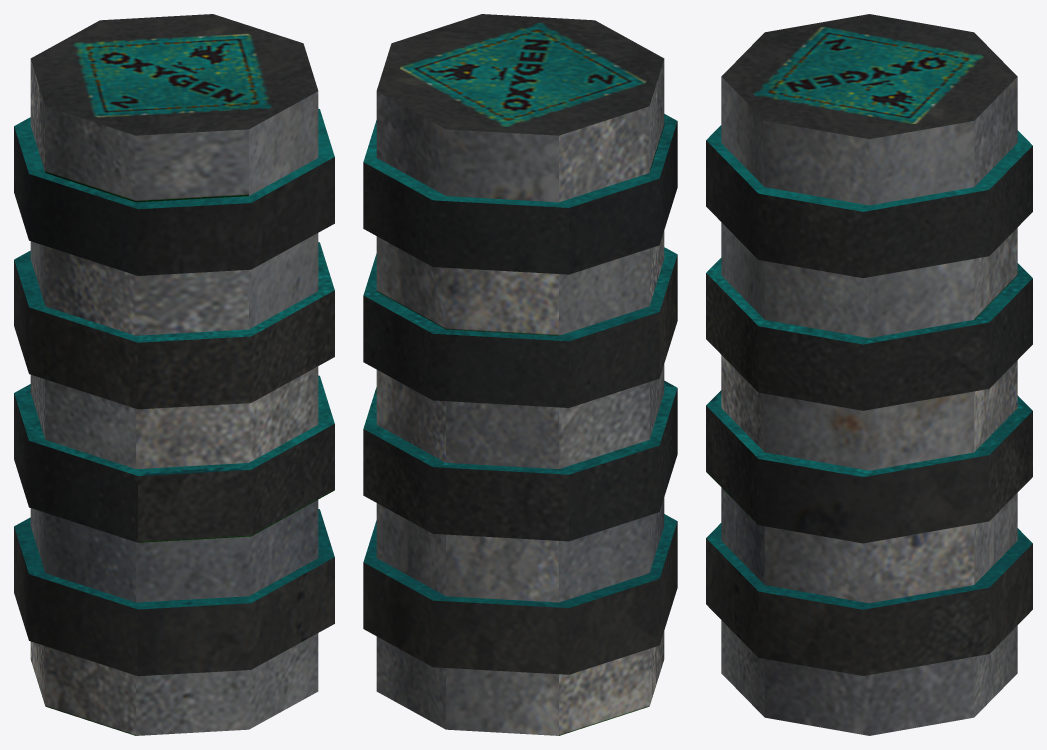
The model's file is canister.FBX.
3 views of the same model, side by side, from view 1: azimuth 30°, elevation 25°; view 2: azimuth 150°, elevation 25°; view 3: azimuth 270°, elevation 25° (orthographic).
Parts seen in each view (by area): view 1: Cylinder003; view 2: Cylinder003; view 3: Cylinder003.
Part boxes in pixels (x1,y1,x2,y2): Cylinder003: [14, 14, 334, 735]; Cylinder003: [363, 14, 677, 735]; Cylinder003: [706, 14, 1032, 735].
Size of the model in its own units: 39.7 by 39.7 by 80.
